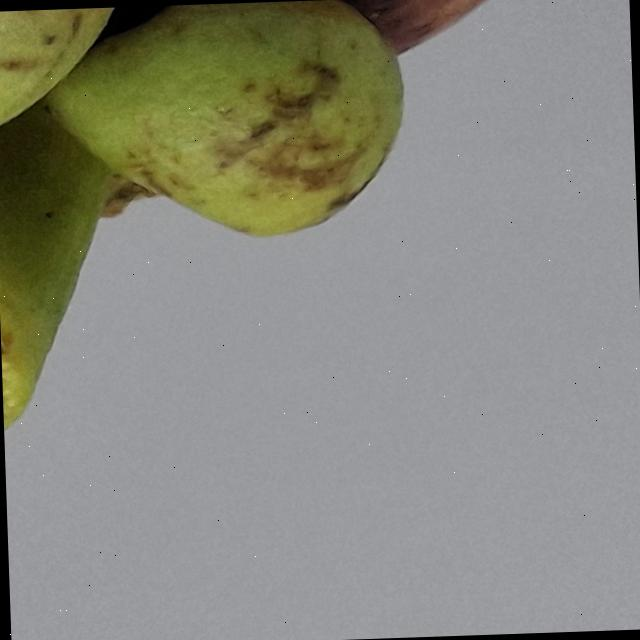mangosteen: (0, 0, 640, 451)
